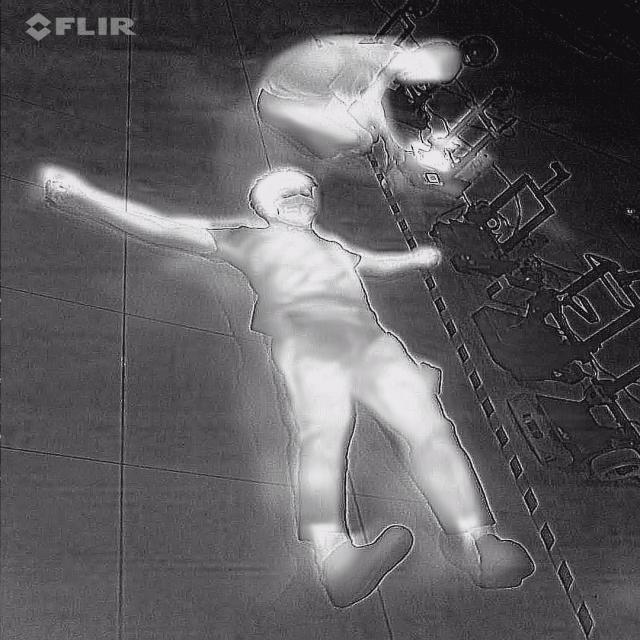Victim: (32, 156, 533, 609), (246, 25, 473, 165)
